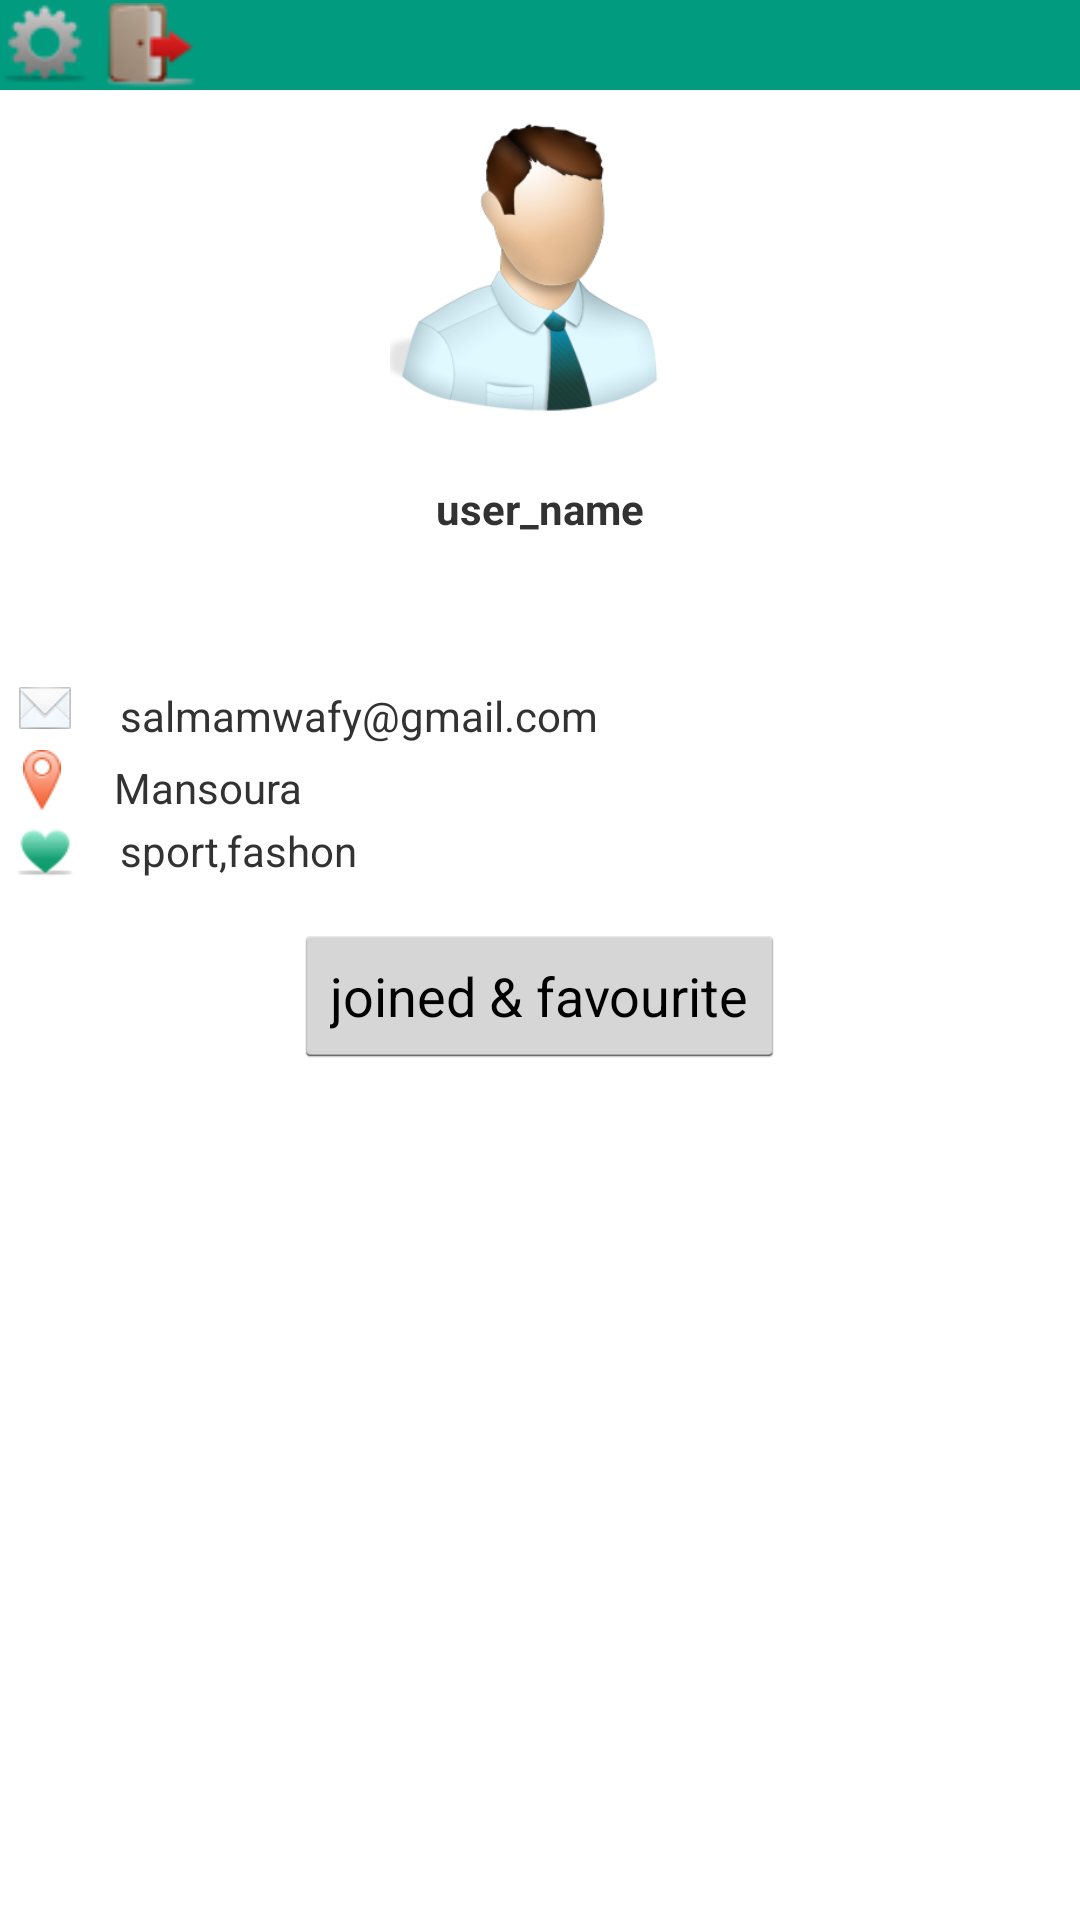

Named icons in this screenshot (1080 × 1920) and their centers, (x=x, y=y):
heart: (x=45, y=852)
location: (x=42, y=780)
log out: (x=150, y=45)
